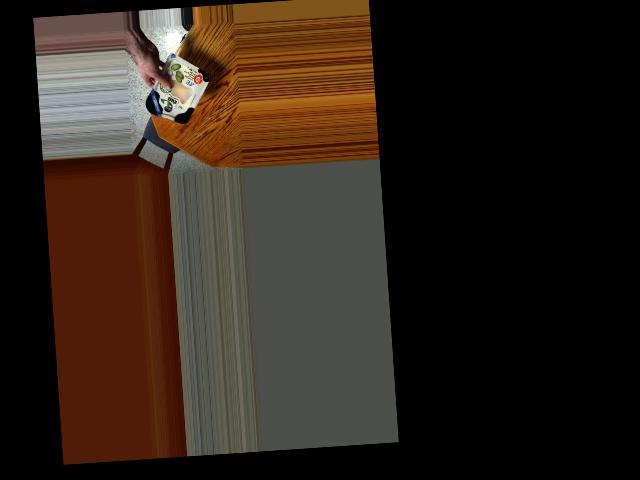cheese: (142, 60, 208, 131)
